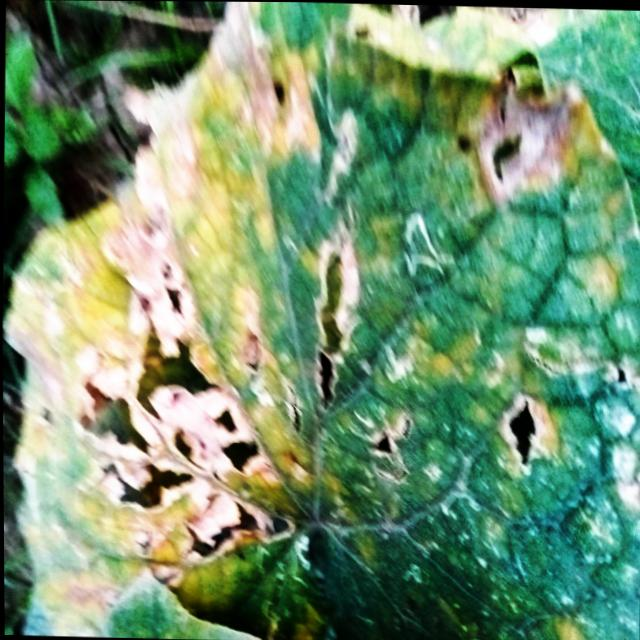Anthracnose: (71, 257, 295, 571), (310, 244, 359, 417), (505, 399, 538, 483)
